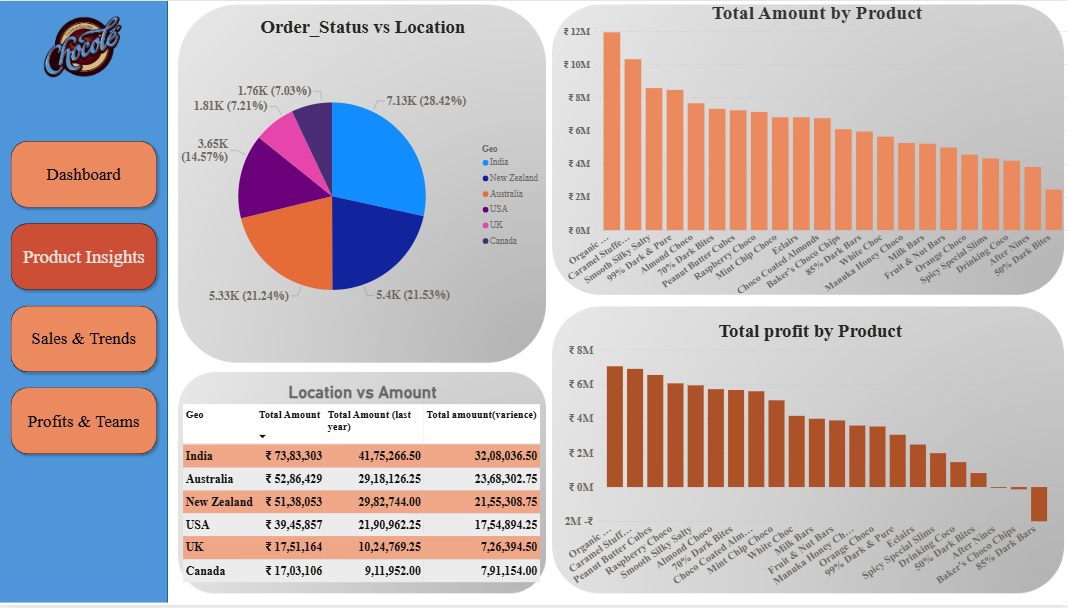

The page's visual inventory and layout, read from the dashboard file:
{"tool":"powerbi","page":{"name":"Product Insights","canvas":[1920,1080],"ordinal":1},"visuals":[{"type":"columnChart","fields":{"Category":["products.Product"],"Y":["shipments.Total profit"]},"box":[1010.5,570.1,887.6,491.9],"z":0},{"type":"tableEx","title":"Location vs Amount","fields":{"Values":["locations.Geo","shipments.Total Amount","shipments.Total Amount (last year)","shipments.Total amouunt(varience)"]},"box":[326.4,681.9,655.1,380.1],"z":1000},{"type":"clusteredColumnChart","fields":{"Category":["products.Product"],"Y":["shipments.Total Amount"]},"box":[1012.8,0,907.7,541],"z":2000},{"type":"pieChart","title":"Order_Status vs Location","fields":{"Y":["CountNonNull(shipments.Order_Status)"],"Category":["locations.Geo"]},"box":[326.4,26.8,655.1,608.1],"z":3000},{"type":"pageNavigator","box":[15.6,241.5,279.5,581.3],"z":4000},{"type":"image","box":[46.9,0,219.1,167.7],"z":5000}]}

Visuals, with their boxes in screenshot pixels (x1, y1, x2, y2), scaled from the page's 1920x1080 canvas onto the 1068x608 screenshot:
columnChart - products.Product x shipments.Total profit: select_region(562, 321, 1056, 598)
"Location vs Amount" tableEx: select_region(182, 384, 546, 598)
clusteredColumnChart - products.Product x shipments.Total Amount: select_region(563, 0, 1067, 305)
"Order_Status vs Location" pieChart: select_region(182, 15, 546, 357)
pageNavigator: select_region(9, 136, 164, 463)
image: select_region(26, 0, 148, 94)
